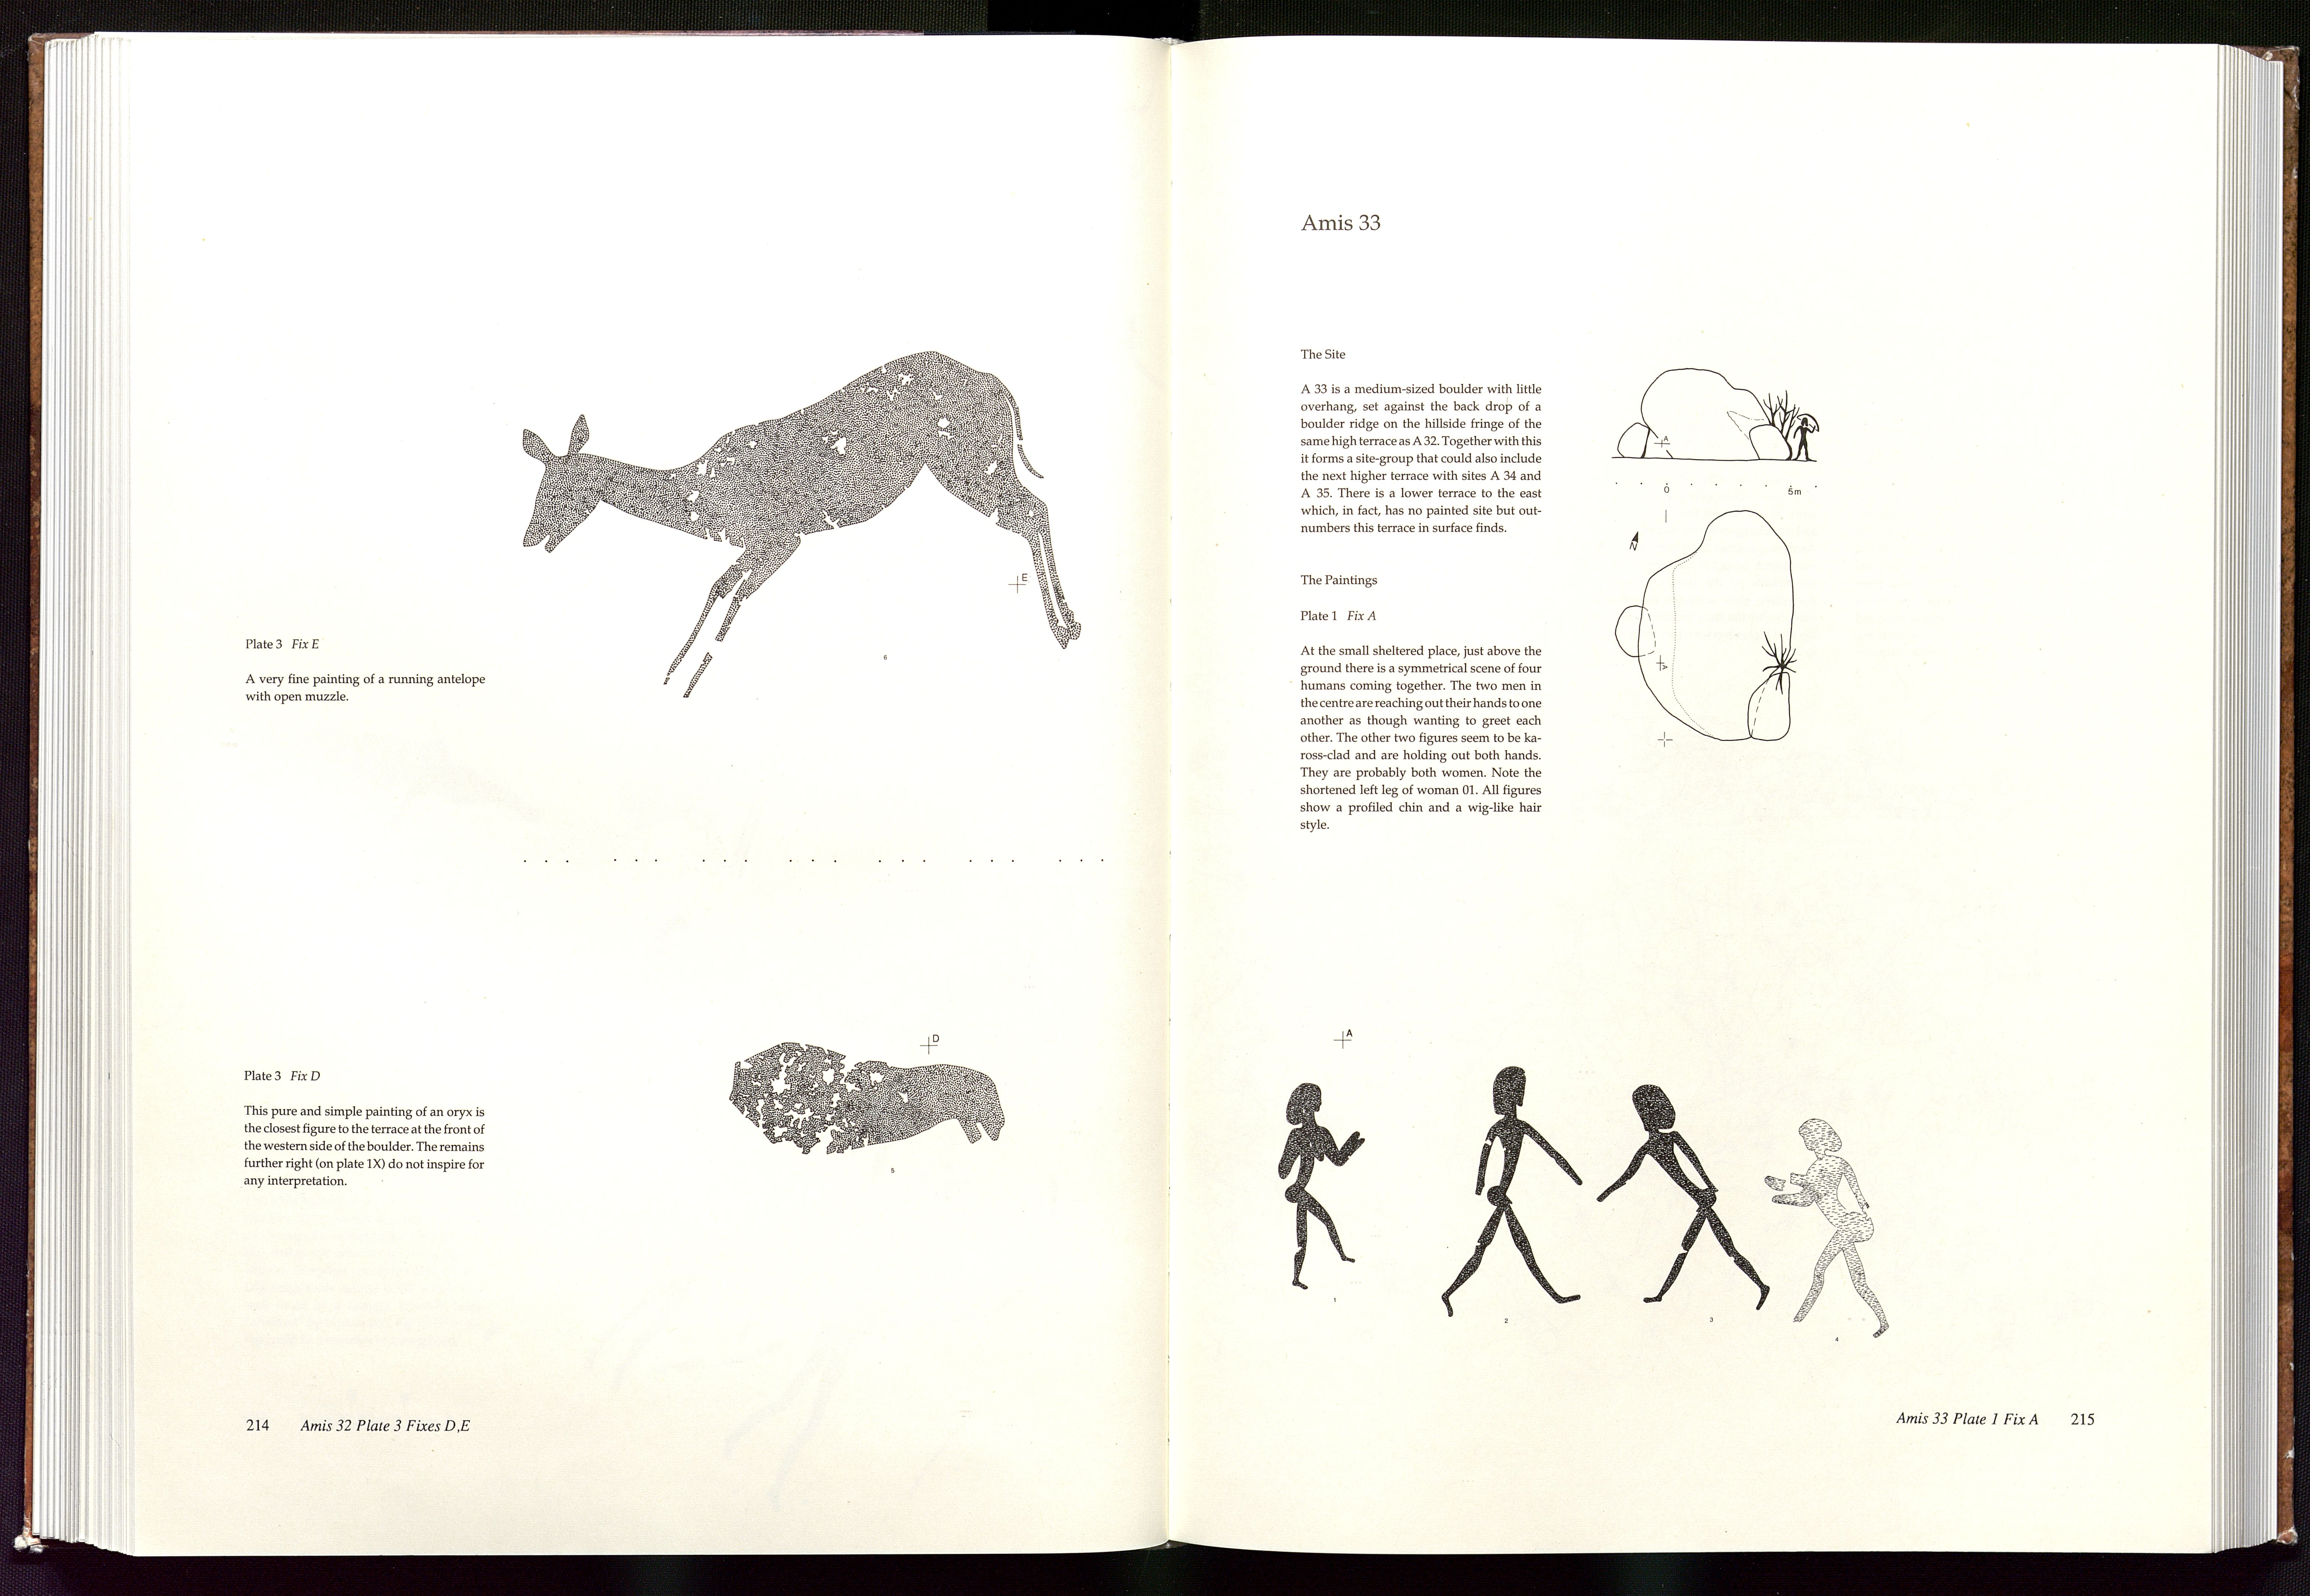animal: (512, 327, 1090, 711)
human: (1593, 1071, 1777, 1317), (1750, 1108, 1922, 1344), (1436, 1057, 1583, 1327), (1271, 1069, 1365, 1307)
